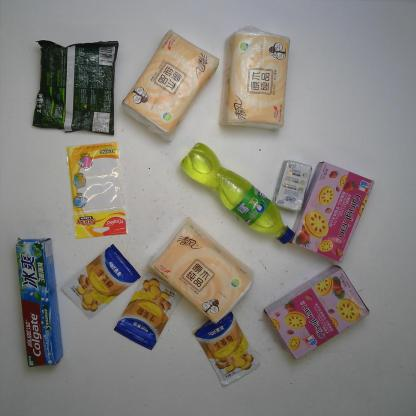Dessert: (265, 260, 393, 354), (290, 162, 380, 272)
Drink: (178, 142, 318, 250)
Instant Noodles: (31, 29, 133, 142)
Milk: (272, 156, 312, 212)
Personal Hygiene: (12, 240, 76, 373)
Seasoner: (61, 240, 146, 322), (190, 310, 267, 384), (119, 269, 181, 349)
Stationery: (61, 141, 150, 242)
Tissue: (149, 216, 262, 322), (125, 30, 227, 138), (220, 27, 310, 146)
